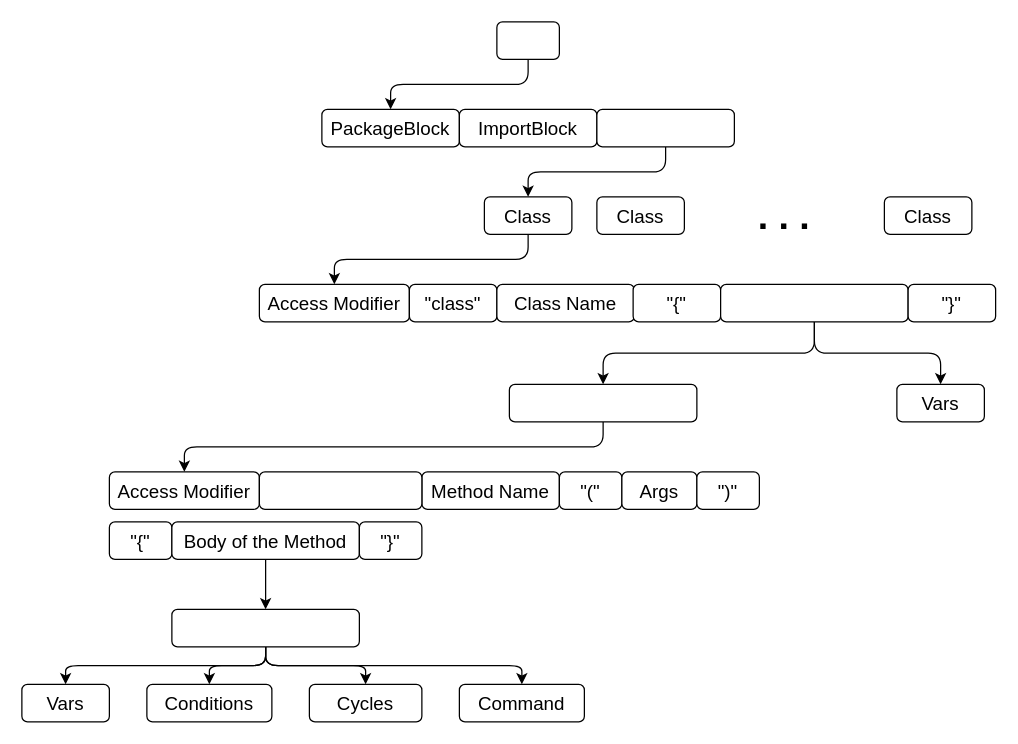
The diagram is 1018 pixels wide and 744 high, and some of its shapes have lost their labels. Each missing label, with the centre of its shape:
"Body of the Class" belongs at pixel 813 302.
"ClassesBlock" belongs at pixel 665 127.
"Commands" belongs at pixel 265 627.
"Data Type (return)" belongs at pixel 340 490.
"main" belongs at pixel 527 40.
"Method" belongs at pixel 602 402.
